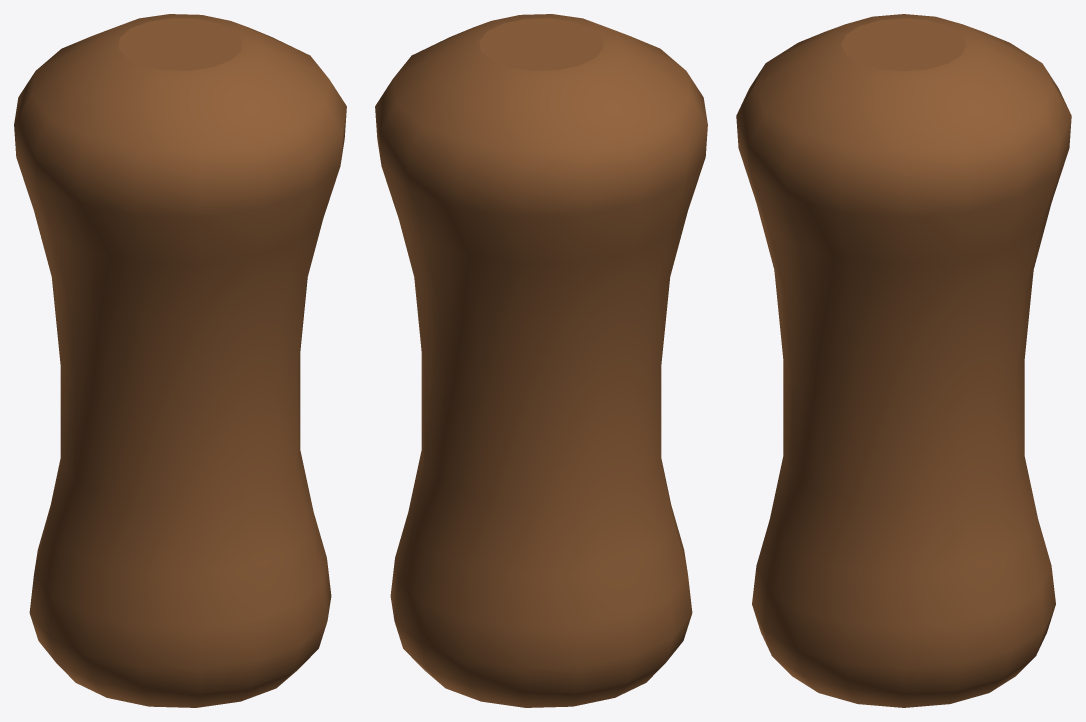
File: SM_TheatreRope_Grip.fbx
The picture shows the model from 3 angles, left to right: view 1: azimuth 30°, elevation 25°; view 2: azimuth 150°, elevation 25°; view 3: azimuth 270°, elevation 25°; orthographic projection.
Visible parts, largest first — view 1: SM_TheatreRope_Grip; view 2: SM_TheatreRope_Grip; view 3: SM_TheatreRope_Grip.
Part boxes in pixels (x1,y1,x2,y2): SM_TheatreRope_Grip: [14, 14, 346, 707]; SM_TheatreRope_Grip: [375, 14, 707, 707]; SM_TheatreRope_Grip: [736, 14, 1071, 707].
Size of the model in its own units: 15 by 15 by 31.
